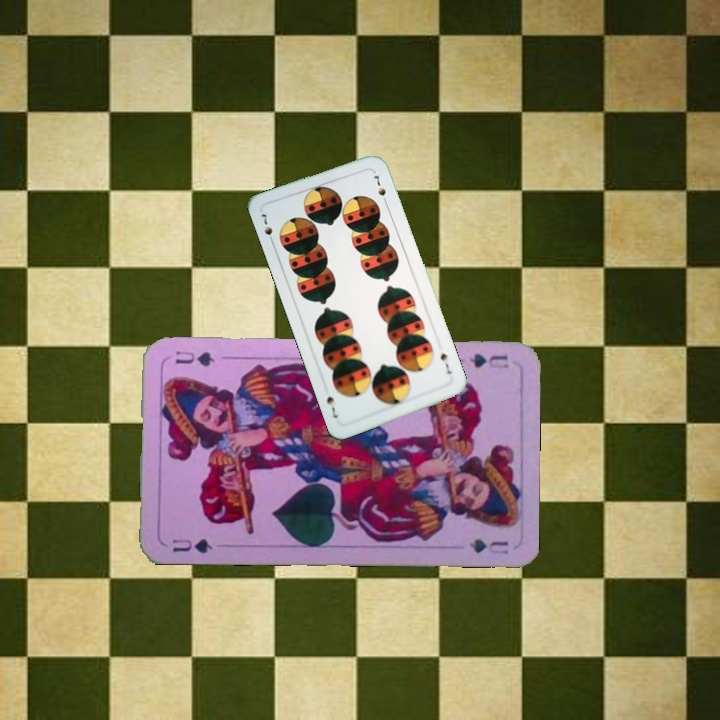GU: (169, 534, 215, 556), (465, 350, 511, 371)
S7: (257, 209, 277, 247), (436, 347, 454, 377)
